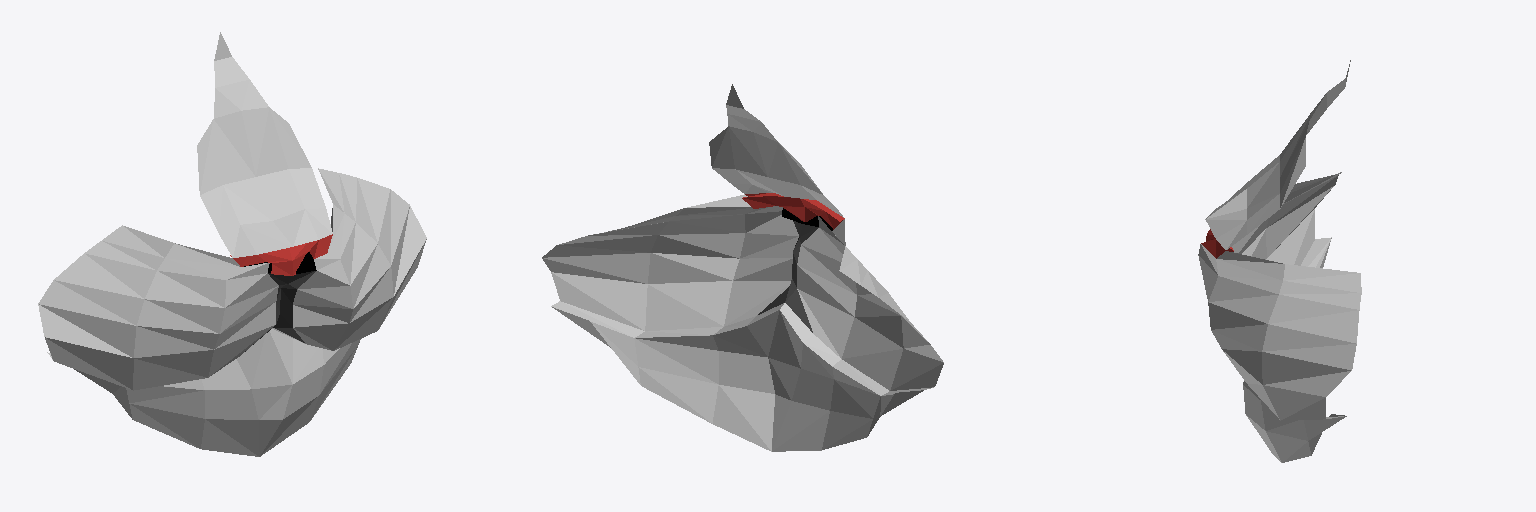
File: muzzle.obj
3 renders of one model, left to right at view 1: azimuth 30°, elevation 25°; view 2: azimuth 150°, elevation 25°; view 3: azimuth 270°, elevation 25°, orthographic.
Visible parts, largest first — view 1: muzzle; view 2: muzzle; view 3: muzzle.
Part boxes in pixels (bbox=[...]): muzzle: bbox=[38, 32, 426, 456]; muzzle: bbox=[542, 84, 943, 451]; muzzle: bbox=[1198, 60, 1361, 462].
Bounding box in the file's own units: 10.92 × 10.68 × 3.98.